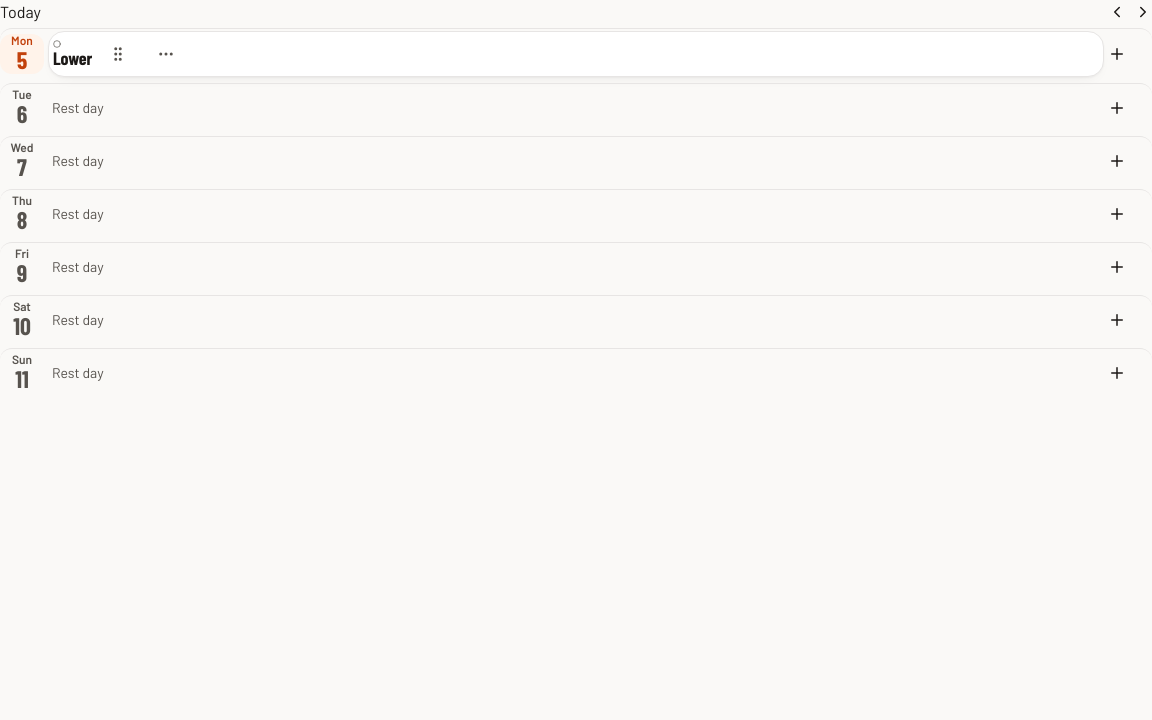
it: Calendar occupied-date choices › collapses workout descriptions while retaining names and rearrangement actions
This screenshot has width=1152, height=720.
Expected: the heading "Lower" is shown, [53, 48, 92, 68]
Click the button named "More options for Lower" at (166, 54), box [144, 32, 188, 76]
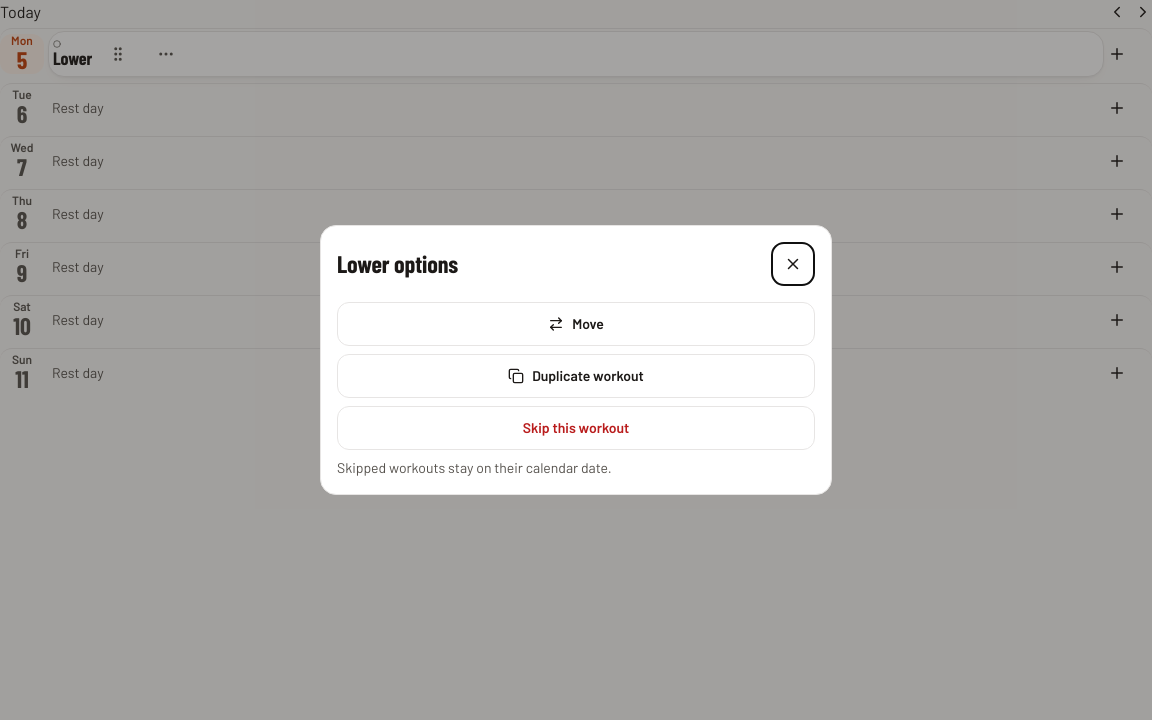
Expected: the button named "Drag Lower to another day" is shown, [96, 32, 140, 76]
Expected: the button "Move" is shown, [337, 302, 815, 346]
